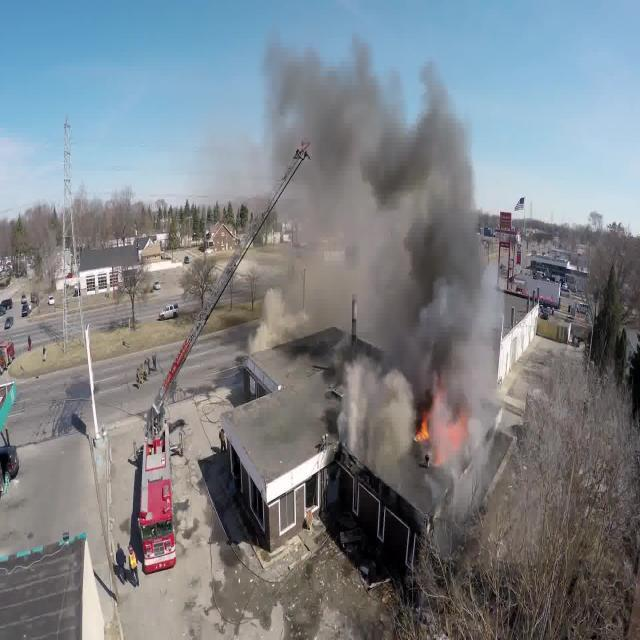Smoke: (296, 104, 468, 459)
